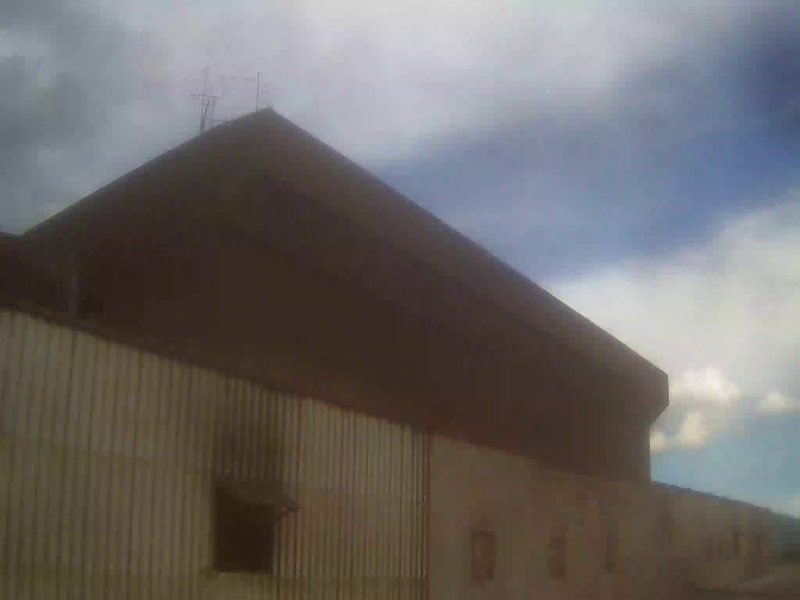bom: (258, 31, 714, 391), (1, 1, 266, 171)
